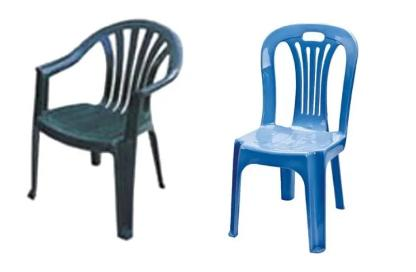chair: (24, 15, 185, 244), (224, 19, 361, 258)
